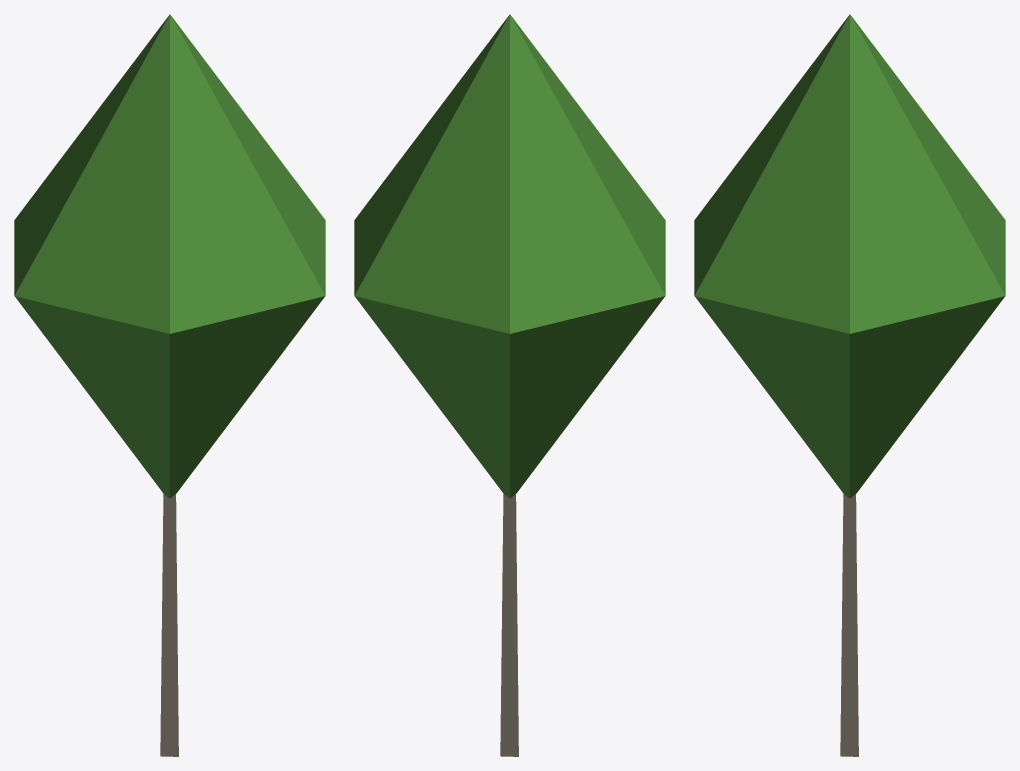
The model's file is hetre_loin.glb.
3 views of the same model, side by side, from view 1: azimuth 30°, elevation 25°; view 2: azimuth 150°, elevation 25°; view 3: azimuth 270°, elevation 25° (orthographic).
Parts seen in each view (by area): view 1: hetre_loin; view 2: hetre_loin; view 3: hetre_loin.
Part boxes in pixels (<box>): hetre_loin: <box>14,14,325,756</box>; hetre_loin: <box>354,14,665,756</box>; hetre_loin: <box>694,14,1005,756</box>.
Bounding box in the file's own units: 8 × 18.2 × 6.93.
Materials: 1 (1 with a texture image).
